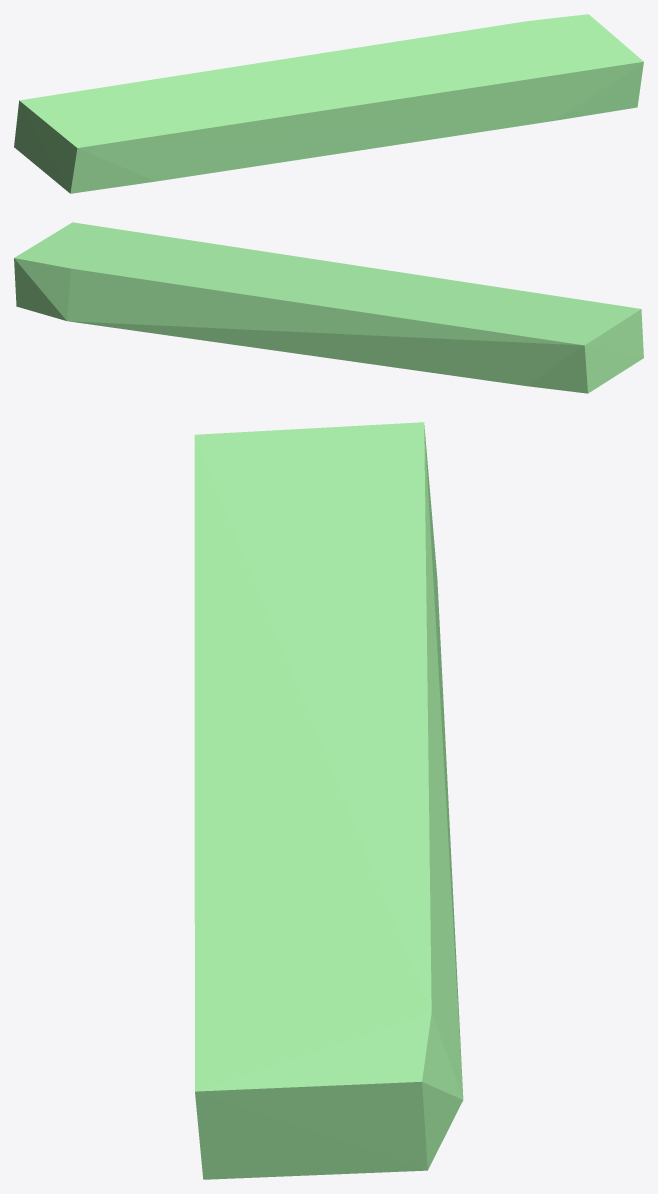
Rendered from UMIRobot_UMIRobot_link_5_convex_coll_78.dae.
The picture shows the model from 3 angles, top to bottom: view 1: azimuth 30°, elevation 25°; view 2: azimuth 150°, elevation 25°; view 3: azimuth 270°, elevation 25°; orthographic projection. The views are drawn at different scales.
Visible parts, largest first — view 1: node; view 2: node; view 3: node.
Part boxes in pixels (x1,y1,x2,y2): node: (14,14,643,193); node: (14,222,643,393); node: (194,422,463,1179).
Bounding box in the file's own units: 0.0322 × 0.00558 × 0.00654.
